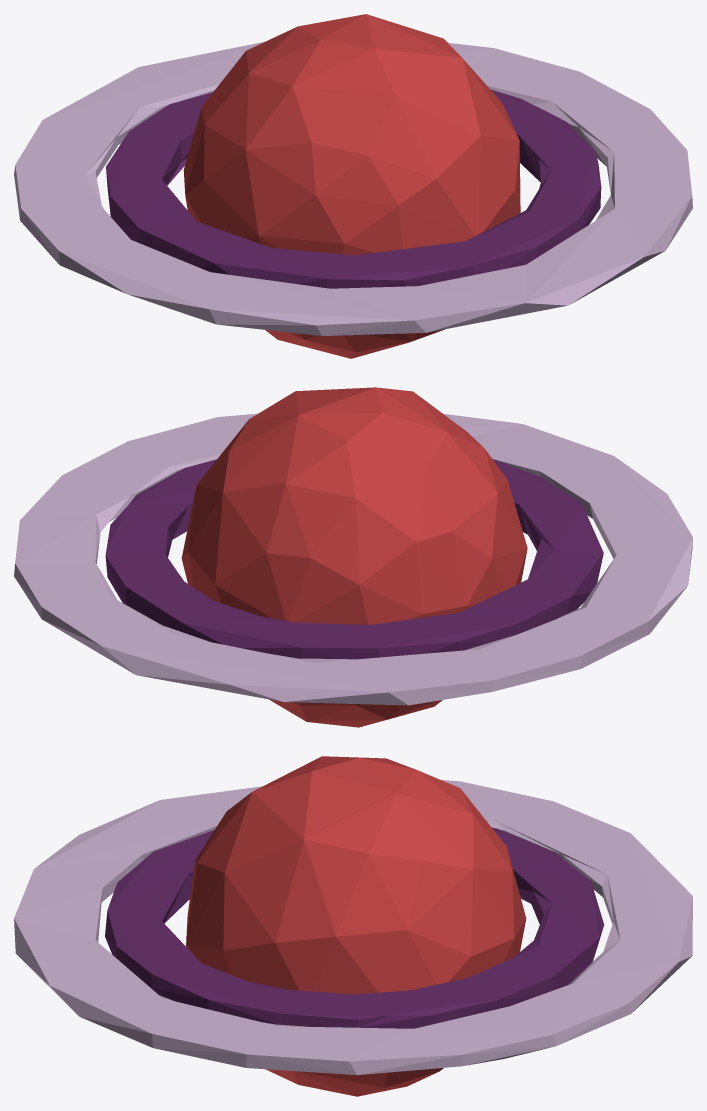
Rendered from SM_PlanetB.fbx.
3 renders of one model, top to bottom at view 1: azimuth 30°, elevation 25°; view 2: azimuth 150°, elevation 25°; view 3: azimuth 270°, elevation 25°, orthographic.
Parts seen in each view (by area): view 1: PlanetB; view 2: PlanetB; view 3: PlanetB.
Part boxes in pixels (x1,y1,x2,y2): PlanetB: [14, 14, 692, 358]; PlanetB: [14, 387, 692, 727]; PlanetB: [14, 756, 692, 1096].
Size of the model in its own units: 4.02 by 2.02 by 4.01.
Materials: 1 (1 with a texture image).
